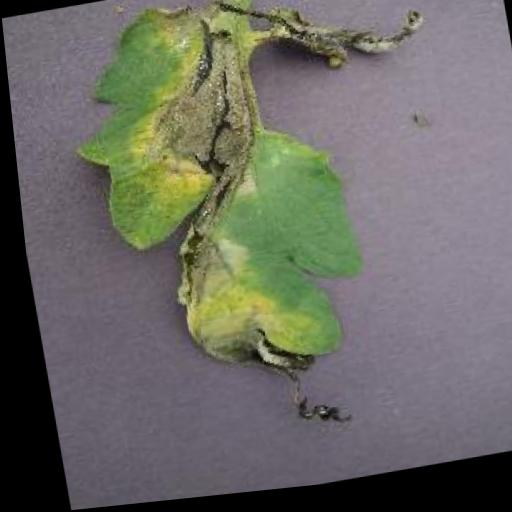Late Blight: (49, 0, 483, 460)
